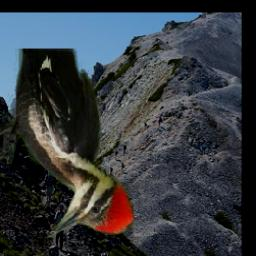Woodpecker: (0, 49, 134, 239)
